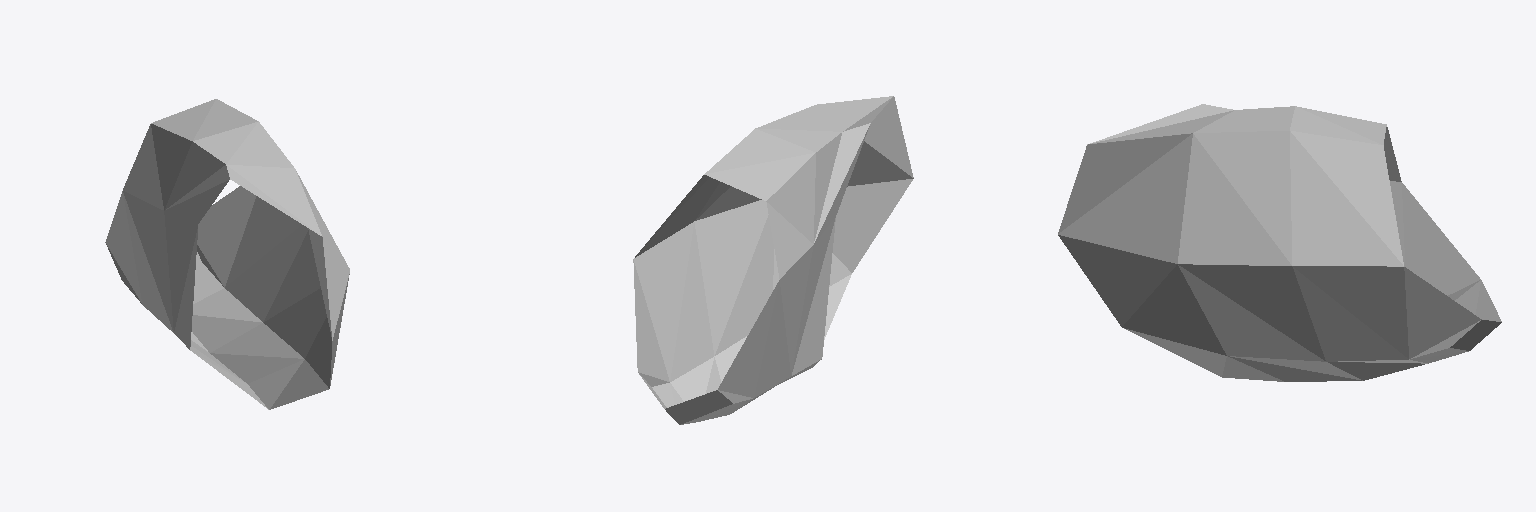
The model's file is patte_ar_g_1.obj.
The picture shows the model from 3 angles: view 1: azimuth 30°, elevation 25°; view 2: azimuth 150°, elevation 25°; view 3: azimuth 270°, elevation 25°; orthographic projection.
Visible parts, largest first — view 1: patte_ar_g_1_Wolf.015; view 2: patte_ar_g_1_Wolf.015; view 3: patte_ar_g_1_Wolf.015.
Part boxes in pixels (x1,y1,x2,y2): patte_ar_g_1_Wolf.015: (105, 99, 349, 409); patte_ar_g_1_Wolf.015: (633, 96, 913, 424); patte_ar_g_1_Wolf.015: (1058, 104, 1501, 381).
Size of the model in its own units: 9.47 by 16.11 by 25.14.